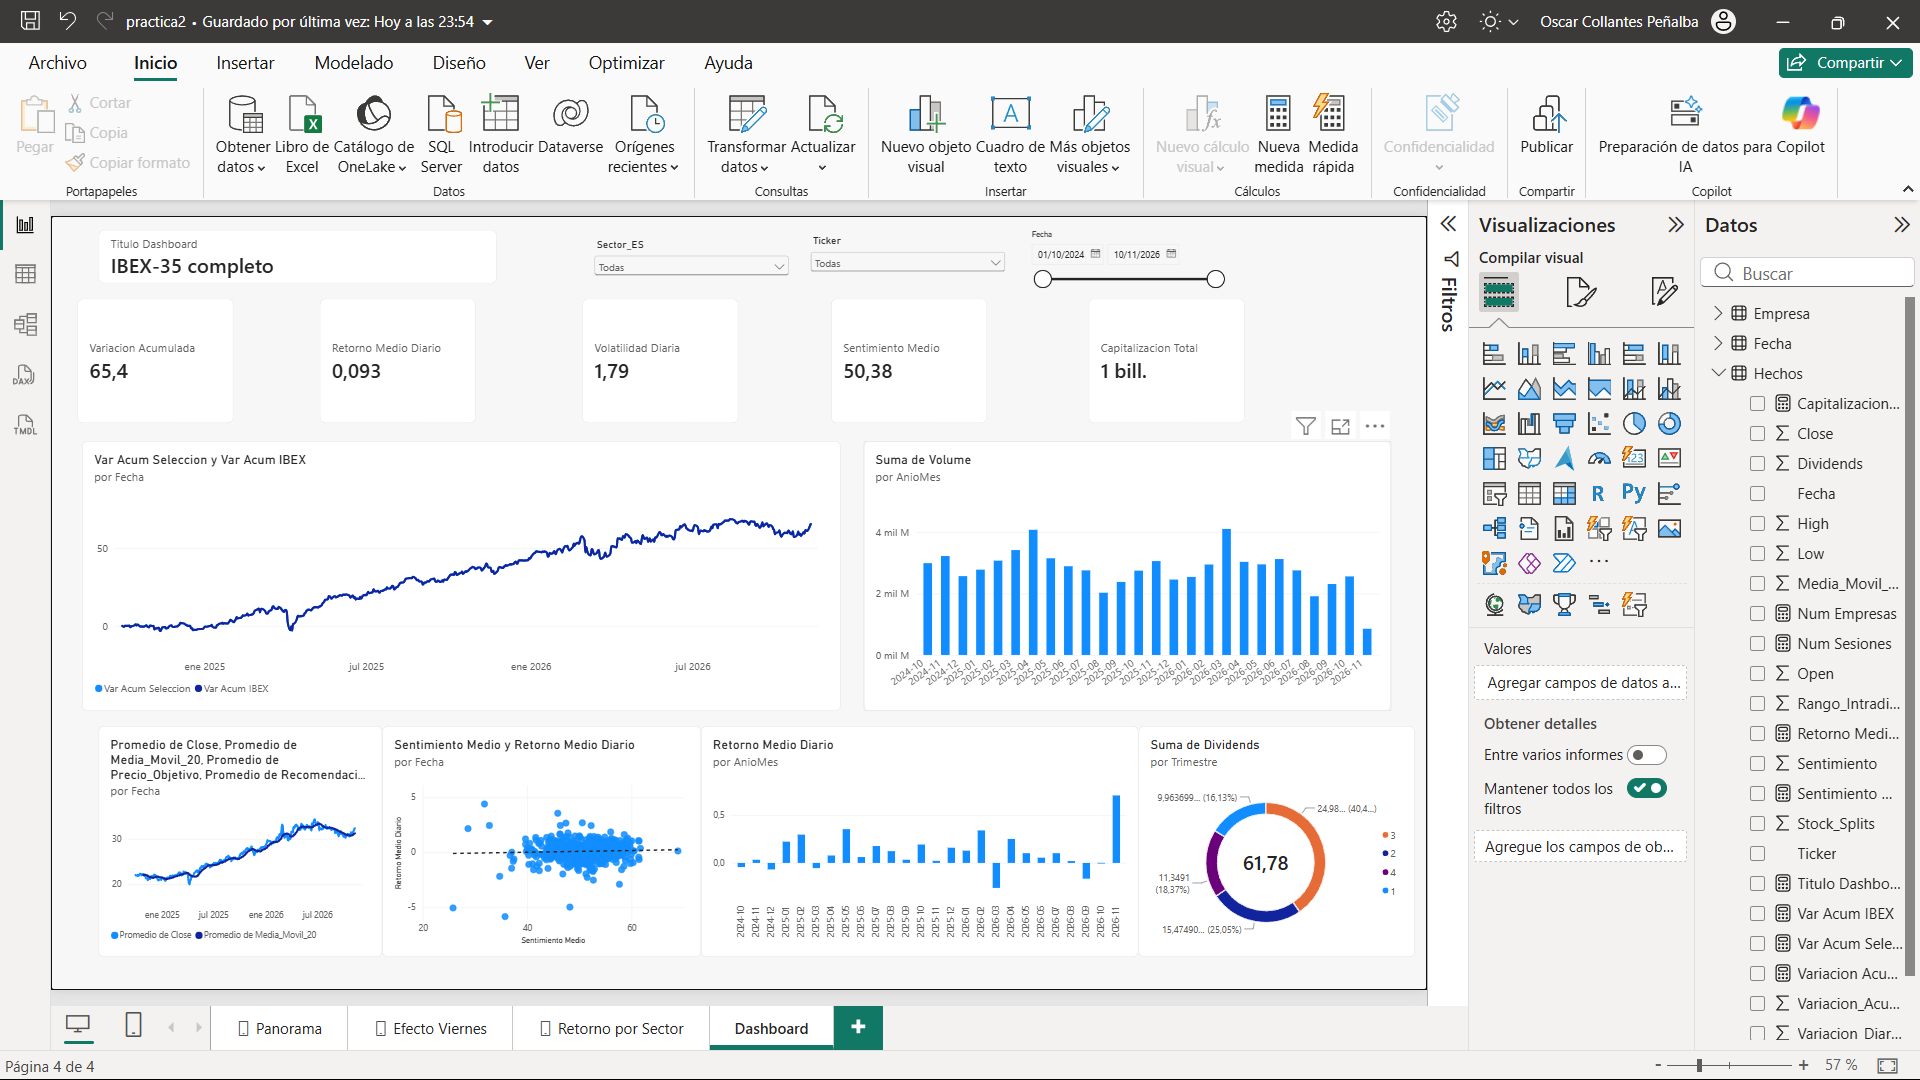

The page's visual inventory and layout, read from the dashboard file:
{"tool":"powerbi","page":{"name":"Dashboard","canvas":[1920,1080],"ordinal":3},"visuals":[{"type":"slicer","fields":{"Values":["Empresa.Sector_ES"]},"box":[753.5,31.4,280.8,68],"z":0},{"type":"slicer","fields":{"Values":["Empresa.Ticker"]},"box":[1055.2,26.2,280.8,80.2],"z":1000},{"type":"slicer","fields":{"Values":["Fecha.Fecha"]},"box":[1360.5,19.2,280.8,95.9],"z":2000},{"type":"cardVisual","fields":{"Data":["Hechos.Variacion Acumulada"]},"box":[36.6,115.1,218,174.4],"z":3000},{"type":"cardVisual","fields":{"Data":["Hechos.Retorno Medio Diario"]},"box":[375,115.1,218,174.4],"z":4000},{"type":"cardVisual","fields":{"Data":["Hechos.Volatilidad Diaria"]},"box":[741.3,115.1,218,174.4],"z":5000},{"type":"cardVisual","fields":{"Data":["Hechos.Sentimiento Medio"]},"box":[1088.4,115.1,218,174.4],"z":6000},{"type":"cardVisual","fields":{"Data":["Hechos.Capitalizacion Total"]},"box":[1447.7,115.1,218,174.4],"z":7000},{"type":"lineChart","fields":{"Category":["Fecha.Fecha"],"Y":["Hechos.Var Acum Seleccion","Hechos.Var Acum IBEX"]},"box":[43.6,314,1058.7,376.7],"z":8000},{"type":"clusteredColumnChart","fields":{"Category":["Fecha.AnioMes"],"Y":["Sum(Hechos.Volume)"]},"box":[1133.7,314,736,376.7],"z":9000},{"type":"lineChart","fields":{"Category":["Fecha.Fecha"],"Y":["Avg(Hechos.Close)","Avg(Hechos.Media_Movil_20)"]},"box":[66.3,711.6,395.9,322.7],"z":10000},{"type":"scatterChart","fields":{"Category":["Fecha.Fecha"],"X":["Hechos.Sentimiento Medio"],"Y":["Hechos.Retorno Medio Diario"]},"box":[462.2,711.6,444.8,322.7],"z":11000},{"type":"clusteredColumnChart","fields":{"Category":["Fecha.AnioMes"],"Y":["Hechos.Retorno Medio Diario"]},"box":[907,711.6,610.5,322.7],"z":12000},{"type":"donutChart","fields":{"Category":["Fecha.Trimestre"],"Y":["Sum(Hechos.Dividends)"]},"box":[1517.4,711.6,385.5,322.7],"z":13000},{"type":"cardVisual","fields":{"Data":["Hechos.Titulo Dashboard"]},"box":[66.3,19.2,556.4,75],"z":13001}]}

Visuals, with their boxes on the page's 1920x1080 design canvas (x1, y1, x2, y2). These are canvas units, not pixel positions in the 1920x1080 screenshot, which may show the page scaled, cropped or inside an application window:
slicer - Empresa.Sector_ES: [x1=754, y1=31, x2=1034, y2=99]
slicer - Empresa.Ticker: [x1=1055, y1=26, x2=1336, y2=106]
slicer - Fecha.Fecha: [x1=1360, y1=19, x2=1641, y2=115]
cardVisual - Hechos.Variacion Acumulada: [x1=37, y1=115, x2=255, y2=290]
cardVisual - Hechos.Retorno Medio Diario: [x1=375, y1=115, x2=593, y2=290]
cardVisual - Hechos.Volatilidad Diaria: [x1=741, y1=115, x2=959, y2=290]
cardVisual - Hechos.Sentimiento Medio: [x1=1088, y1=115, x2=1306, y2=290]
cardVisual - Hechos.Capitalizacion Total: [x1=1448, y1=115, x2=1666, y2=290]
lineChart - Fecha.Fecha x Hechos.Var Acum Seleccion: [x1=44, y1=314, x2=1102, y2=691]
clusteredColumnChart - Fecha.AnioMes x Sum(Hechos.Volume): [x1=1134, y1=314, x2=1870, y2=691]
lineChart - Fecha.Fecha x Avg(Hechos.Close): [x1=66, y1=712, x2=462, y2=1034]
scatterChart - Fecha.Fecha x Hechos.Sentimiento Medio: [x1=462, y1=712, x2=907, y2=1034]
clusteredColumnChart - Fecha.AnioMes x Hechos.Retorno Medio Diario: [x1=907, y1=712, x2=1518, y2=1034]
donutChart - Fecha.Trimestre x Sum(Hechos.Dividends): [x1=1517, y1=712, x2=1903, y2=1034]
cardVisual - Hechos.Titulo Dashboard: [x1=66, y1=19, x2=623, y2=94]
